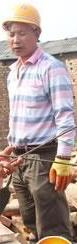gloves: (49, 154, 73, 190)
hard-hat: (0, 40, 31, 79)
